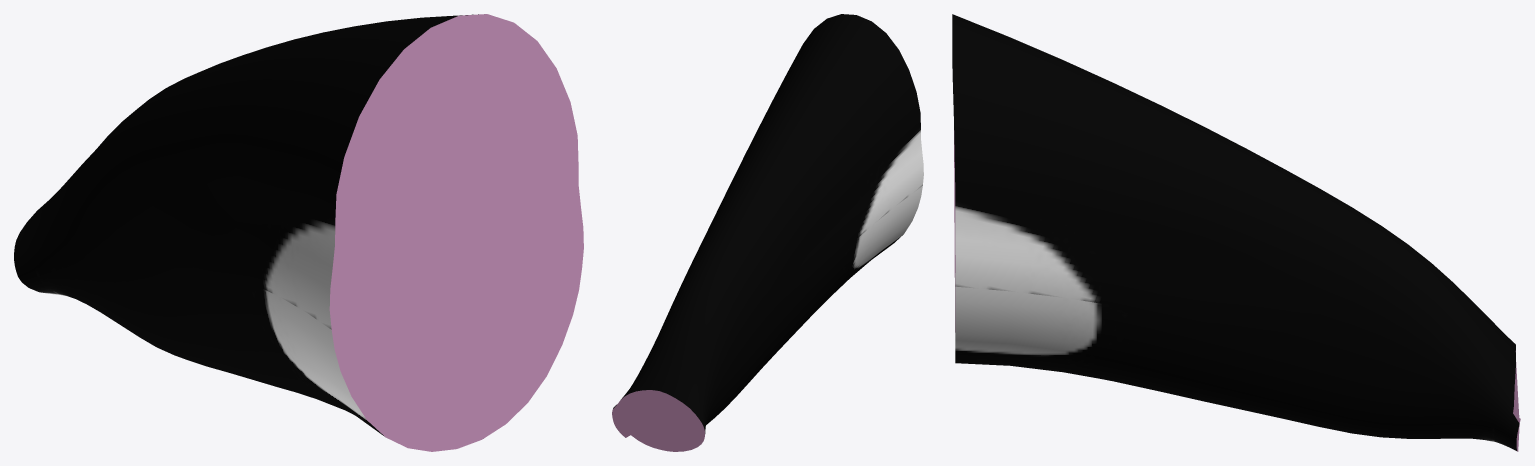
The model's file is CuerpoTraOrca.obj.
The picture shows the model from 3 angles, left to right: view 1: azimuth 30°, elevation 25°; view 2: azimuth 150°, elevation 25°; view 3: azimuth 270°, elevation 25°; orthographic projection. The views are drawn at different scales.
Parts seen in each view (by area): view 1: CuerpoTras; view 2: CuerpoTras; view 3: CuerpoTras.
Boxes of the visible parts, box(x1,y1,x2,y2) form: CuerpoTras: box(14, 14, 583, 451); CuerpoTras: box(612, 14, 923, 451); CuerpoTras: box(952, 14, 1520, 451).
Bounding box in the file's own units: 5.6 × 11.4 × 14.13.
